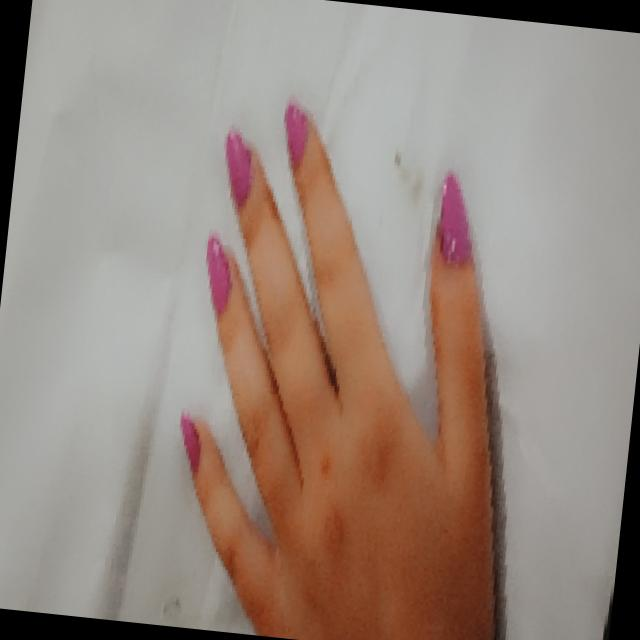Nail: (438, 173, 471, 263), (206, 234, 231, 314), (225, 131, 251, 204), (284, 104, 308, 168), (180, 413, 199, 473)
